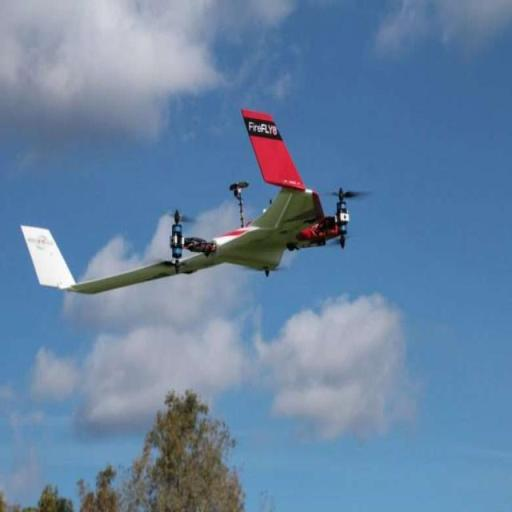uav: (14, 105, 372, 297)
